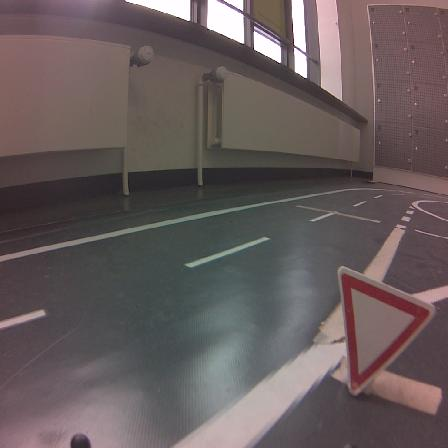GIVE_WAY: (338, 267, 434, 394)
